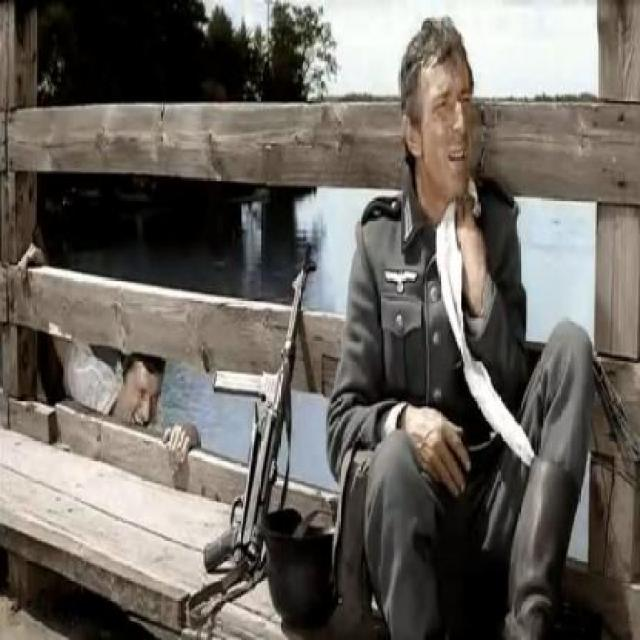gun: (200, 219, 340, 584)
